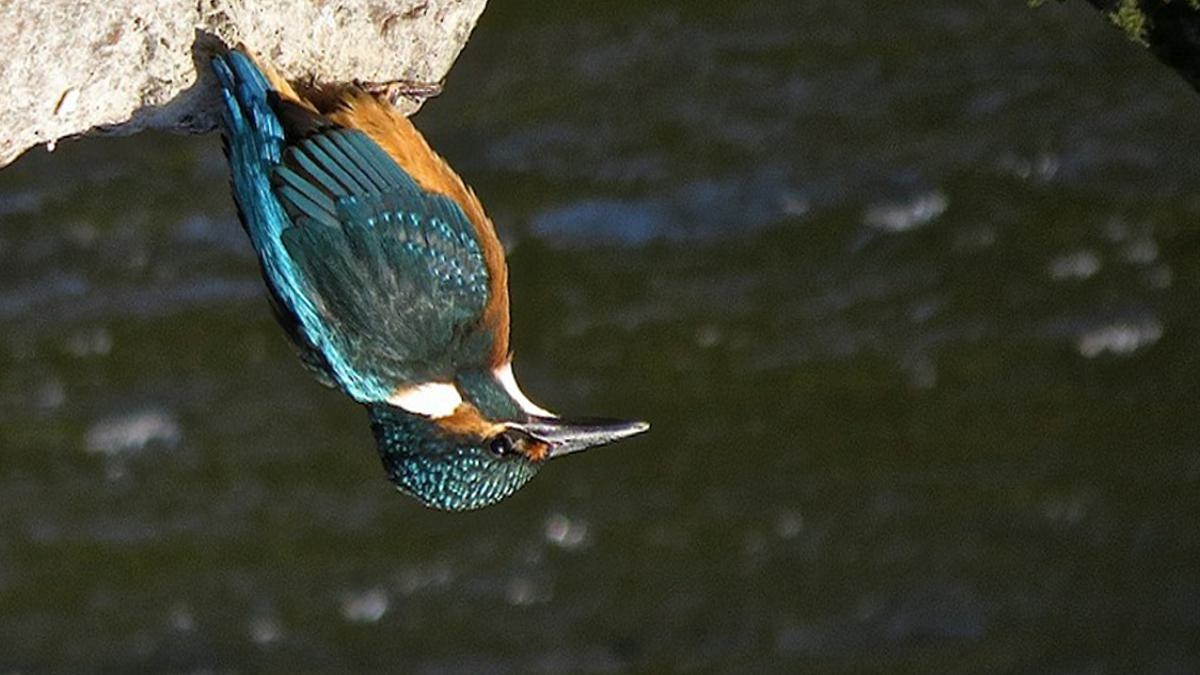kingfisher: (219, 60, 635, 520)
